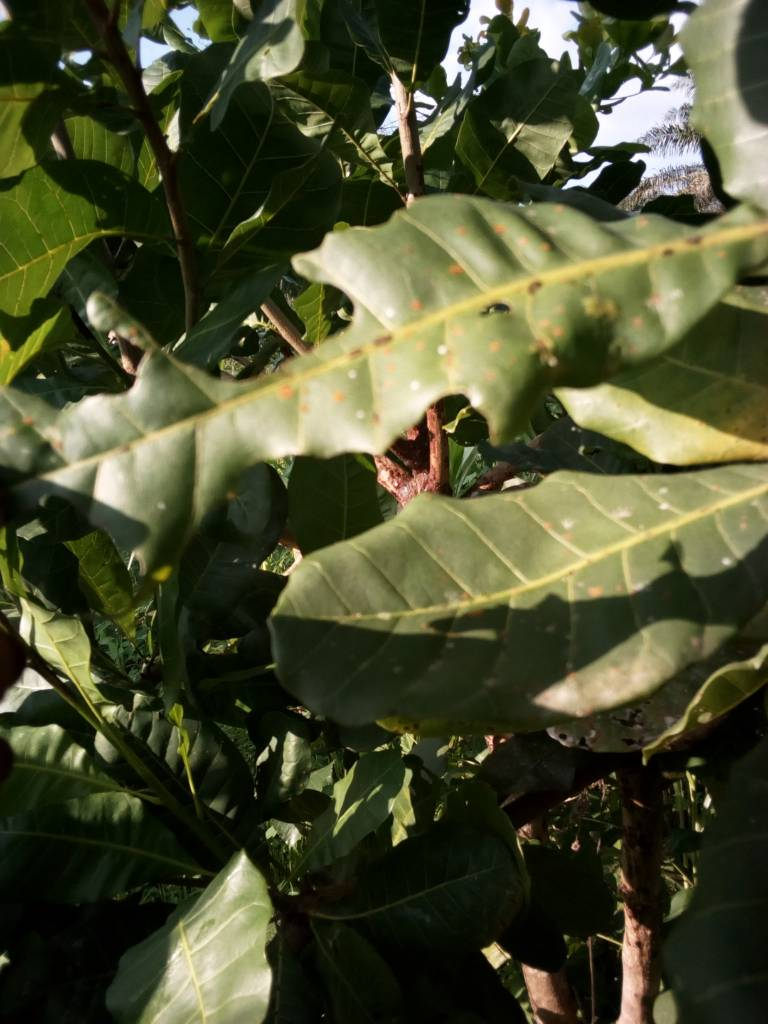Rouille: (49, 185, 768, 519)
